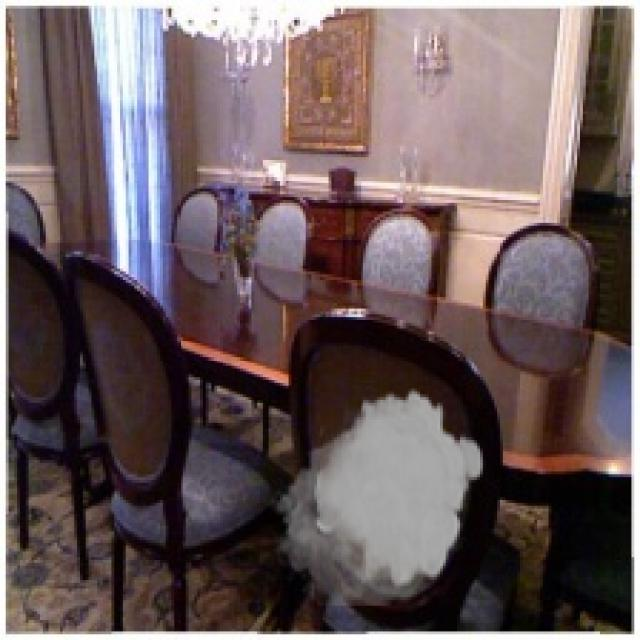smoke: (268, 386, 486, 606)
